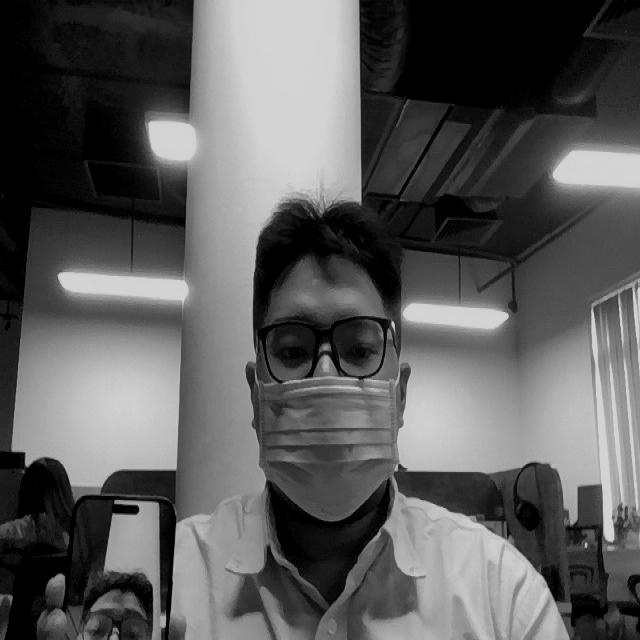fake: (253, 373, 402, 524), (63, 483, 181, 640), (78, 561, 157, 640)
real: (243, 191, 415, 524), (255, 317, 396, 376)
